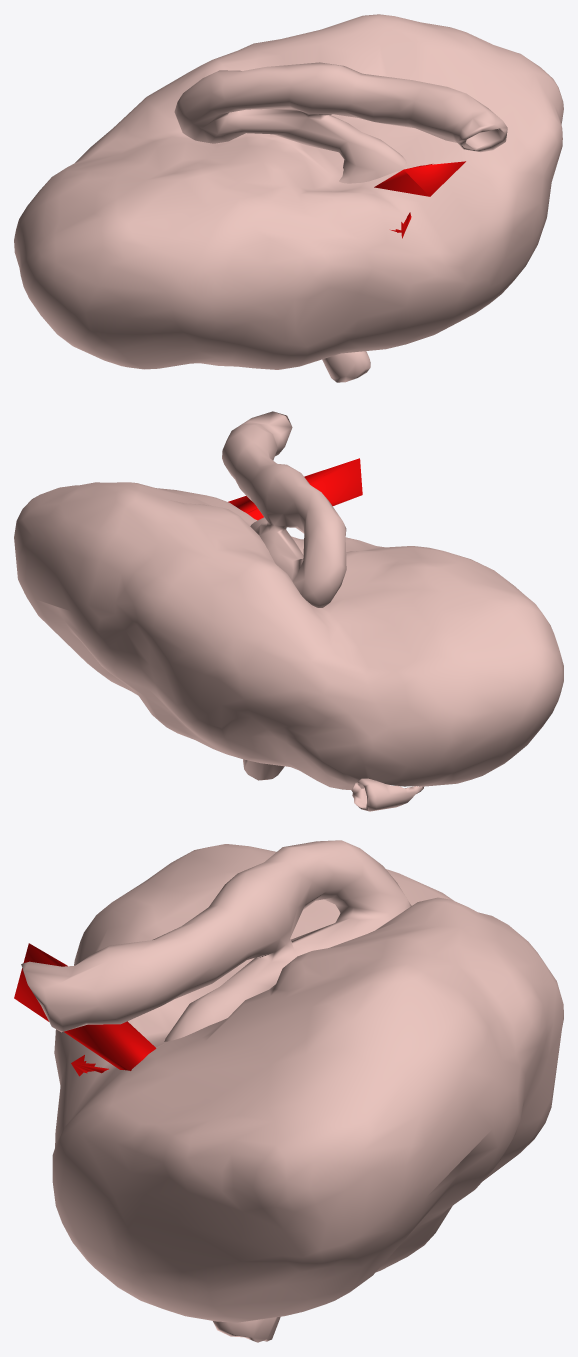
The model's file is nih_f_lymph_node-20.glb.
The picture shows the model from 3 angles, top to bottom: view 1: azimuth 30°, elevation 25°; view 2: azimuth 150°, elevation 25°; view 3: azimuth 270°, elevation 25°; orthographic projection. The views are drawn at different scales.
Visible parts, largest first — view 1: Yao_capsule_of_lymph_node, Yao_efferent_lymph_node, Yao_blood_vasculature, Yao_afferent_lymphatic_vessel; view 2: Yao_capsule_of_lymph_node, Yao_efferent_lymph_node, Yao_afferent_lymphatic_vessel, Yao_blood_vasculature; view 3: Yao_capsule_of_lymph_node, Yao_efferent_lymph_node, Yao_blood_vasculature, Yao_afferent_lymphatic_vessel.
Part boxes in pixels (x1,y1,x2,y2): Yao_capsule_of_lymph_node: [14, 14, 563, 369]; Yao_efferent_lymph_node: [174, 62, 507, 183]; Yao_blood_vasculature: [374, 161, 465, 238]; Yao_afferent_lymphatic_vessel: [322, 351, 370, 382]; Yao_capsule_of_lymph_node: [14, 482, 563, 789]; Yao_efferent_lymph_node: [222, 411, 346, 607]; Yao_afferent_lymphatic_vessel: [243, 759, 423, 811]; Yao_blood_vasculature: [228, 458, 362, 520]; Yao_capsule_of_lymph_node: [52, 844, 563, 1322]; Yao_efferent_lymph_node: [21, 840, 411, 1041]; Yao_blood_vasculature: [14, 943, 156, 1076]; Yao_afferent_lymphatic_vessel: [213, 1316, 280, 1342].
Bounding box in the file's own units: 0.0196 × 0.0113 × 0.0125.
